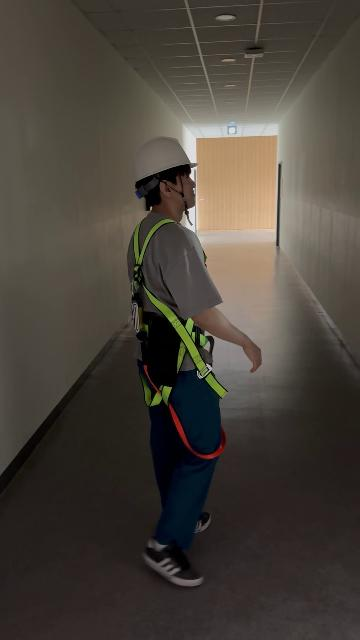helmet_worn: (133, 136, 199, 182)
shoe_not_worn: (142, 538, 202, 587), (194, 511, 211, 534)
vest_worn: (127, 220, 231, 457)
